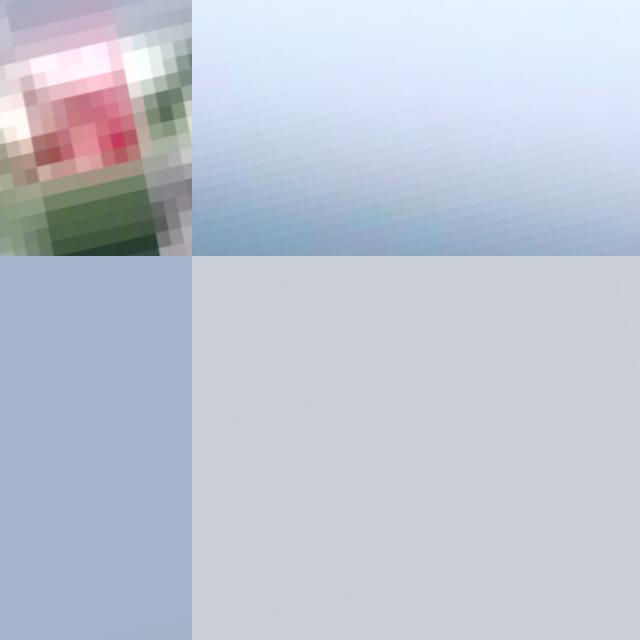drone: (192, 0, 640, 256), (0, 0, 192, 256)
